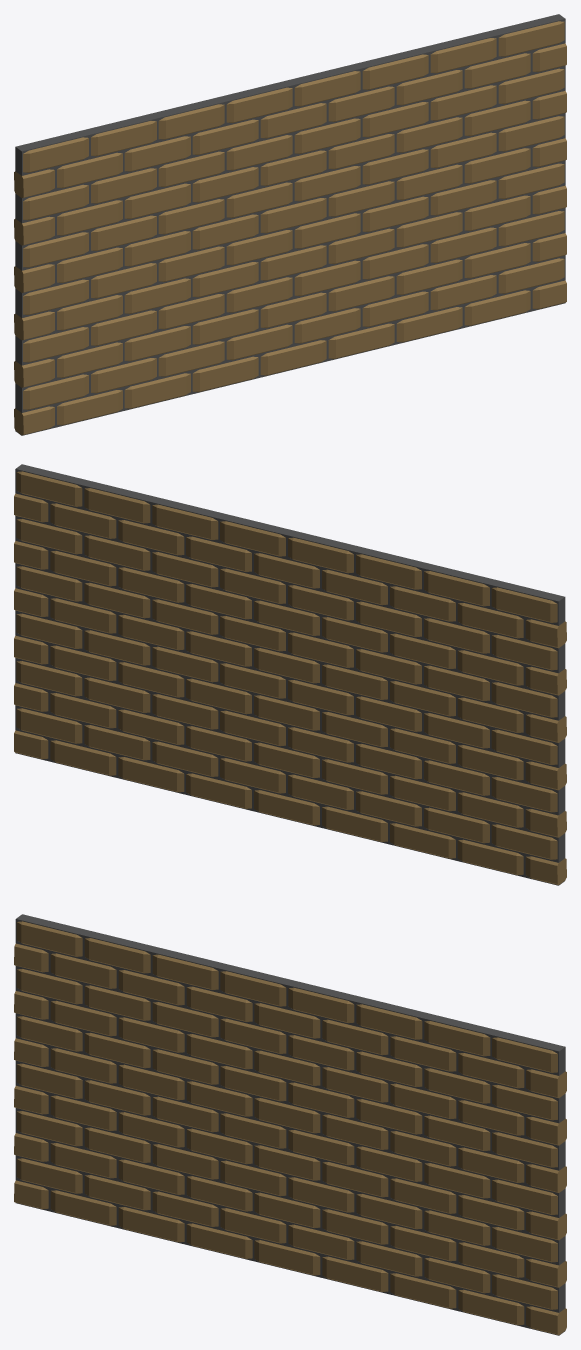
Rendered from SchoolWall.fbx.
3 renders of one model, top to bottom at view 1: azimuth 30°, elevation 25°; view 2: azimuth 150°, elevation 25°; view 3: azimuth 330°, elevation 25°, orthographic.
Visible parts, largest first — view 1: Cube.002; view 2: Cube.002; view 3: Cube.002.
Part boxes in pixels (box(x1,y1,x2,y2)): Cube.002: box(14, 14, 566, 435); Cube.002: box(14, 464, 566, 885); Cube.002: box(14, 914, 566, 1335).
Bounding box in the file's own units: 3.97 × 1.99 × 0.1226.
